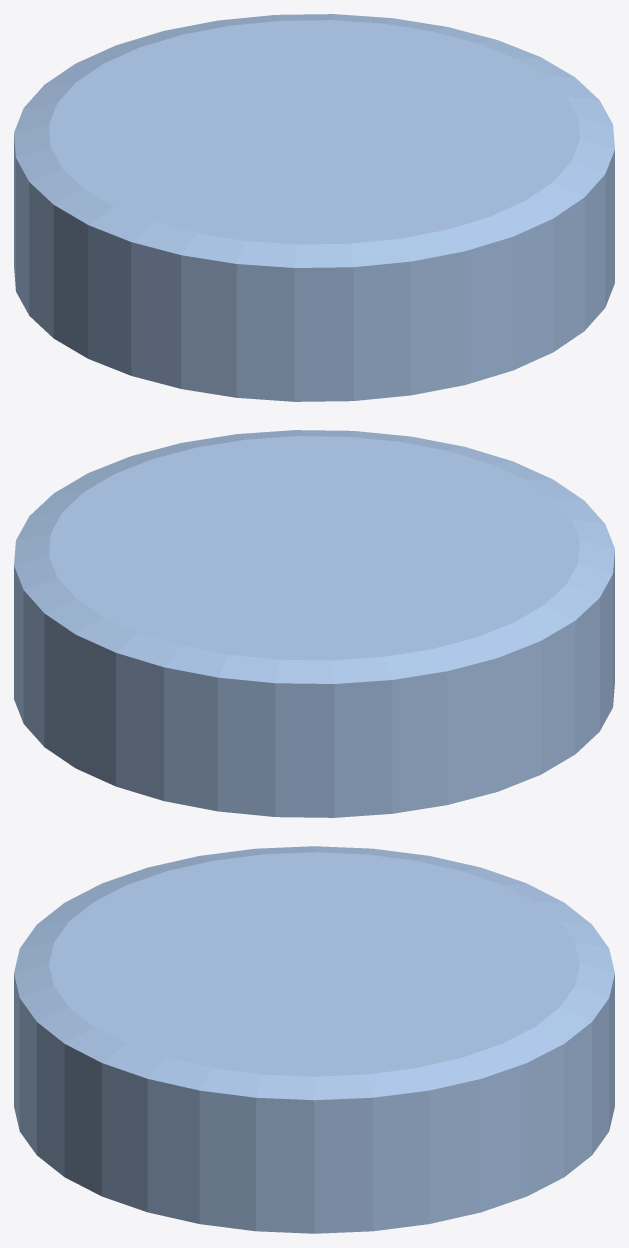
The model's file is ice_disk.fbx.
3 views of the same model, one above another, from view 1: azimuth 30°, elevation 25°; view 2: azimuth 150°, elevation 25°; view 3: azimuth 270°, elevation 25° (orthographic).
Visible parts, largest first — view 1: Cylinder; view 2: Cylinder; view 3: Cylinder.
Part boxes in pixels (x1,y1,x2,y2): Cylinder: (14,14,614,401); Cylinder: (14,430,614,817); Cylinder: (14,846,614,1233).
Size of the model in its own units: 434 by 120 by 434.
